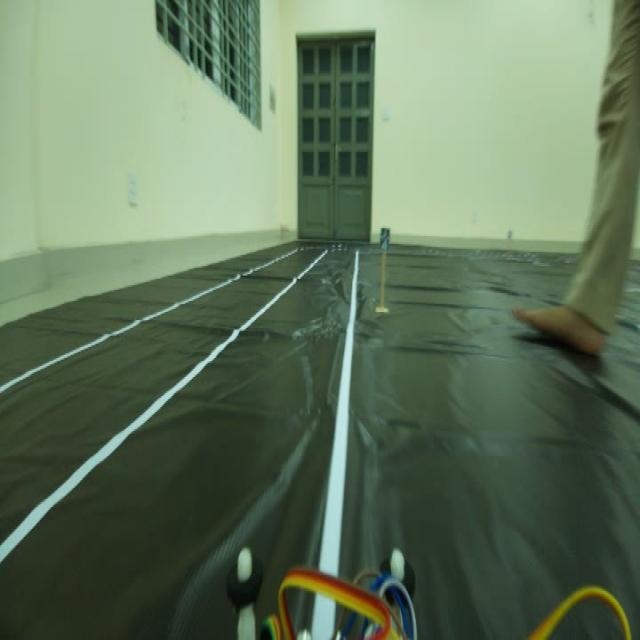highway_exit: (379, 222, 393, 252)
